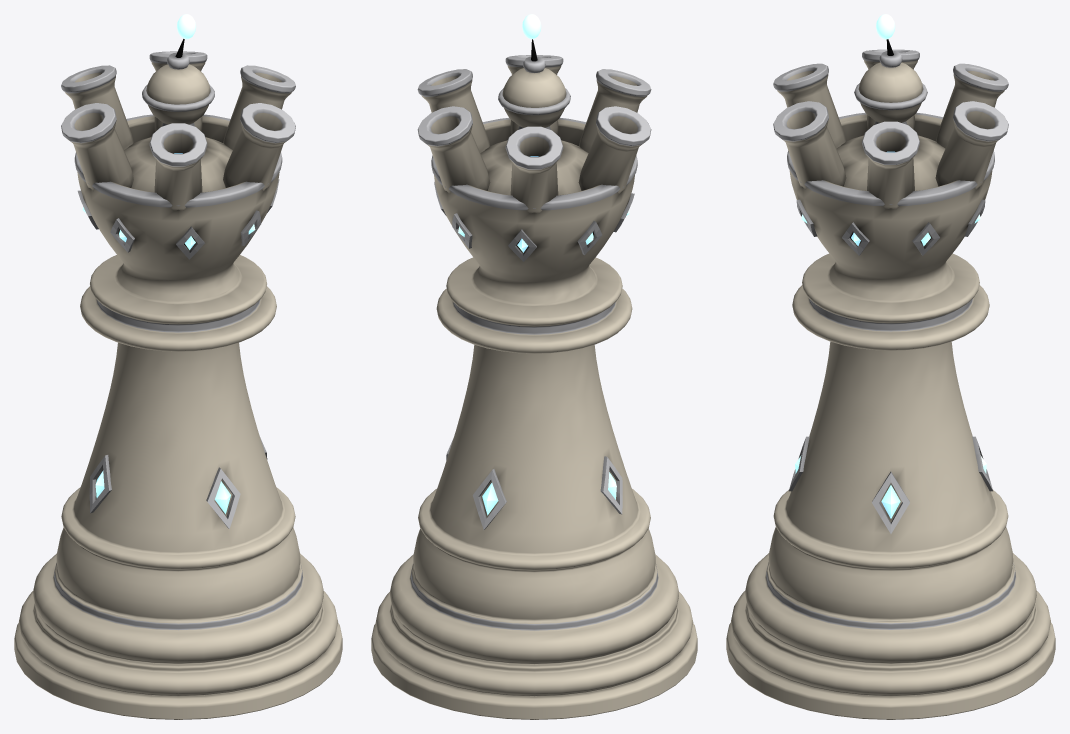
The model's file is bombard.glb.
3 views of the same model, side by side, from view 1: azimuth 30°, elevation 25°; view 2: azimuth 150°, elevation 25°; view 3: azimuth 270°, elevation 25° (orthographic).
Parts seen in each view (by area): view 1: bombard; view 2: bombard; view 3: bombard.
Boxes of the visible parts, x1,y1,x2,y2 form: bombard: (14,14,342,719); bombard: (371,14,697,719); bombard: (726,14,1055,719).
Bounding box in the file's own units: 0.74 × 1.58 × 0.74.
